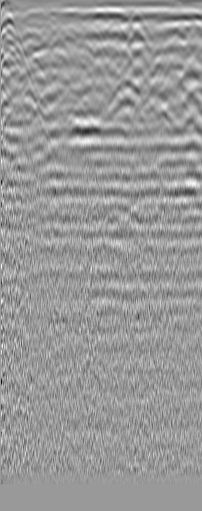오수: (2, 13, 22, 45)
우수: (165, 26, 185, 46)
